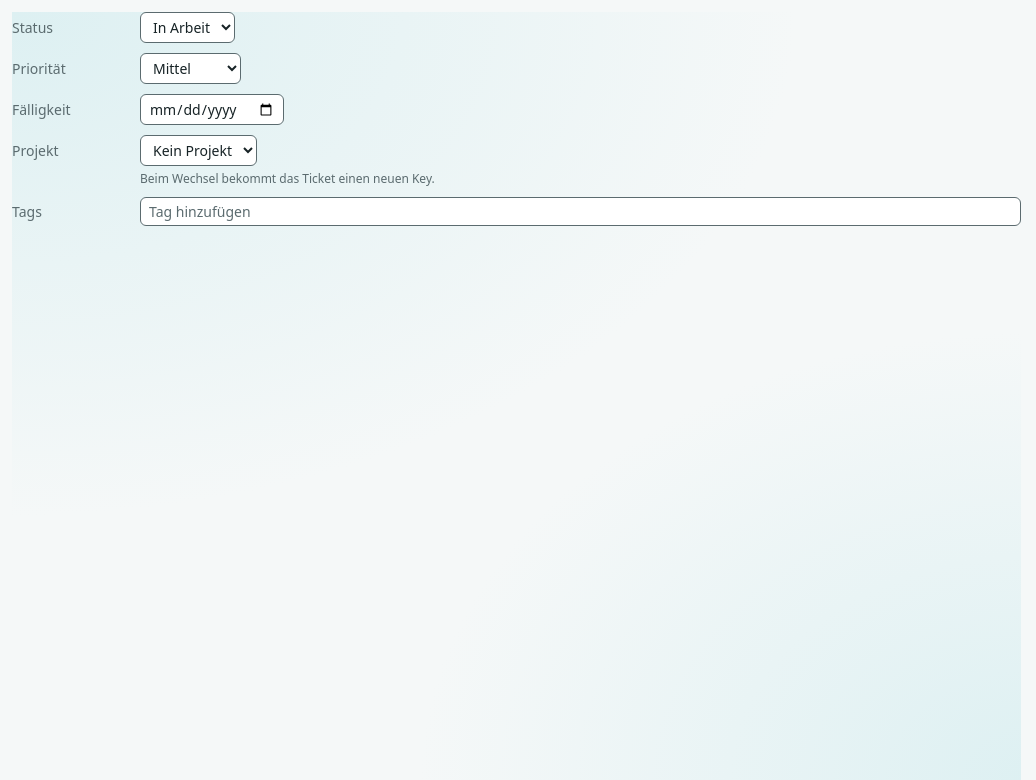
Test: status "Erledigt" of a ticket with open blocking sub-tasks › asks inline below the status, without a dialog, and answers with the choice
The width and height of the screenshot is (1036, 780).
Select "Erledigt" in the dropdown labelled "Status": x=188, y=28 [140, 12, 235, 43]
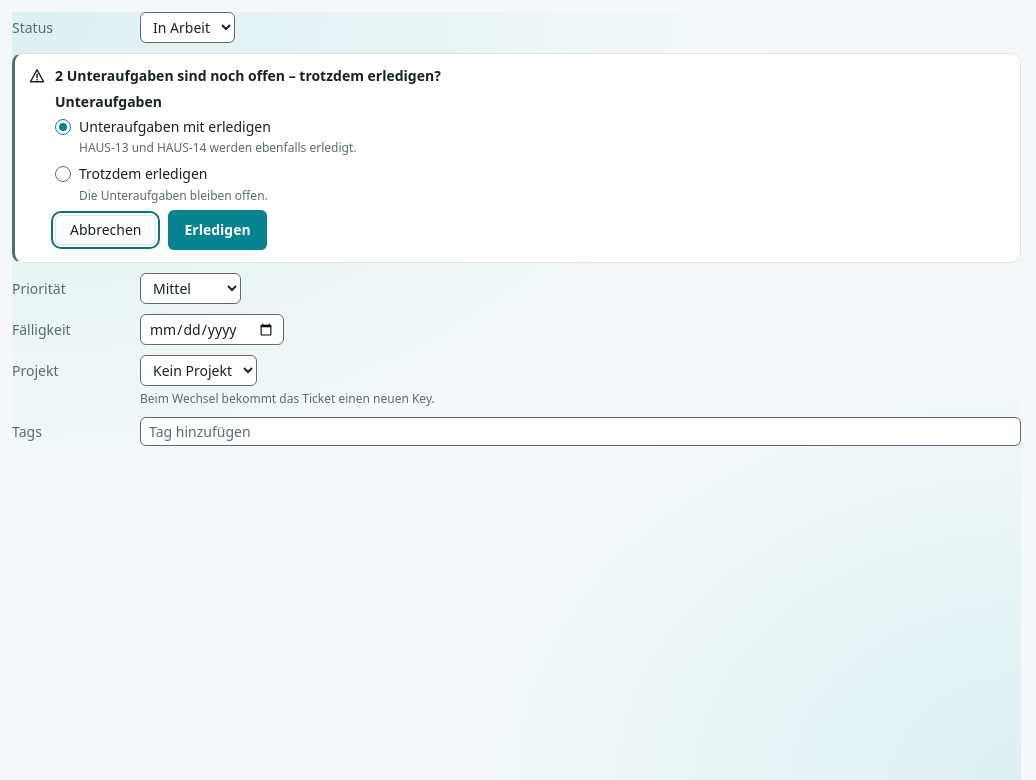
Check: the text "Priorität" is shown, box [12, 279, 66, 298]
Check: the element "2 Unteraufgaben sind noch offen – trotzdem erledigen?" is shown, box [12, 53, 1021, 263]
Click the button "Erledigen": x=218, y=230 [168, 210, 267, 250]
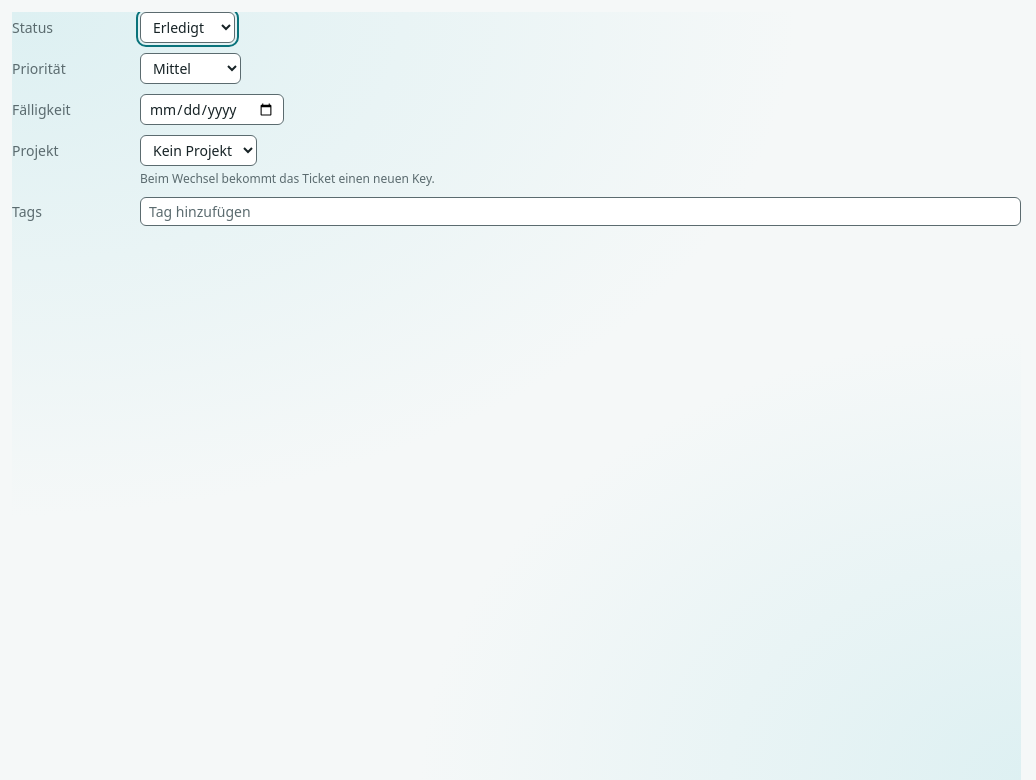
Check: the heading "erledigen" is gone
